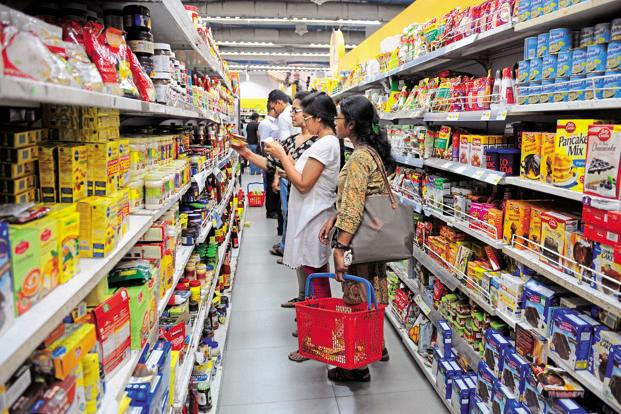Emotion_Happy: (281, 90, 304, 131)
Emotion_Neutral: (328, 107, 354, 140)
